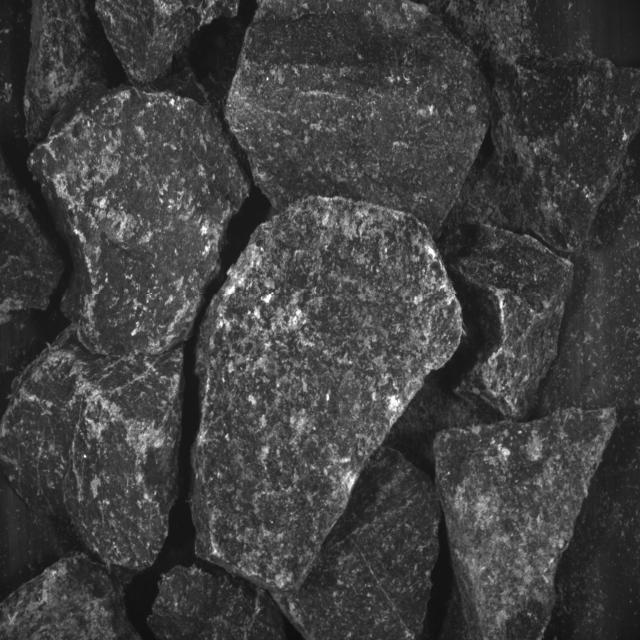Stones: (192, 197, 462, 593), (227, 1, 490, 235), (31, 88, 250, 355), (1, 328, 184, 572), (435, 409, 617, 640), (276, 449, 442, 640), (492, 60, 640, 253), (442, 226, 574, 420), (25, 1, 126, 147), (96, 1, 240, 86), (1, 555, 141, 640), (1, 153, 65, 325), (149, 566, 287, 640)
